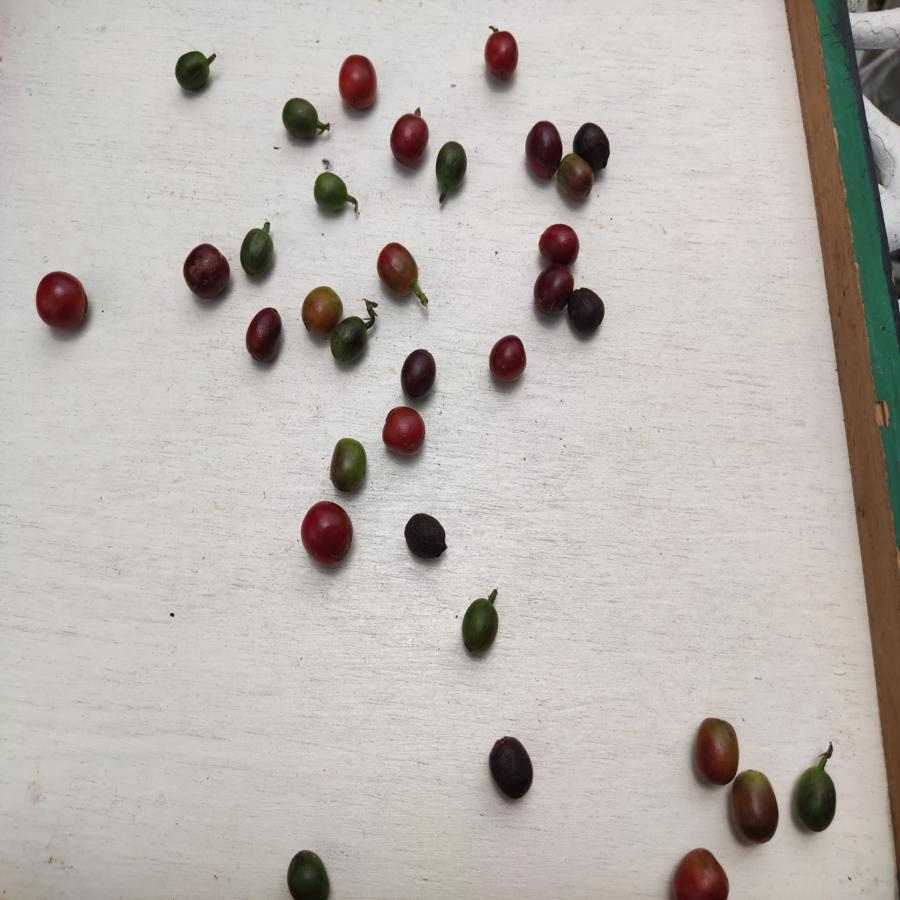Inmaduro: (794, 767, 840, 834), (285, 849, 334, 900), (461, 597, 501, 656), (330, 317, 371, 364), (239, 229, 275, 278), (312, 172, 354, 214), (434, 141, 470, 189), (175, 50, 212, 93), (281, 100, 320, 140)
Maduro: (300, 502, 358, 564), (34, 271, 92, 329), (673, 848, 732, 900), (338, 50, 380, 113), (381, 407, 428, 460), (389, 113, 430, 168), (482, 29, 521, 81), (539, 223, 580, 266)
Pinton: (730, 766, 780, 846), (693, 713, 739, 788), (374, 241, 423, 298), (329, 437, 367, 492), (299, 284, 342, 332), (559, 157, 597, 205)
Sobremaduro: (489, 735, 535, 799), (183, 244, 231, 303), (532, 266, 575, 320), (524, 121, 561, 181), (488, 332, 528, 387), (405, 510, 446, 561), (246, 307, 282, 364), (401, 348, 437, 399), (570, 285, 607, 334), (575, 122, 610, 158)
